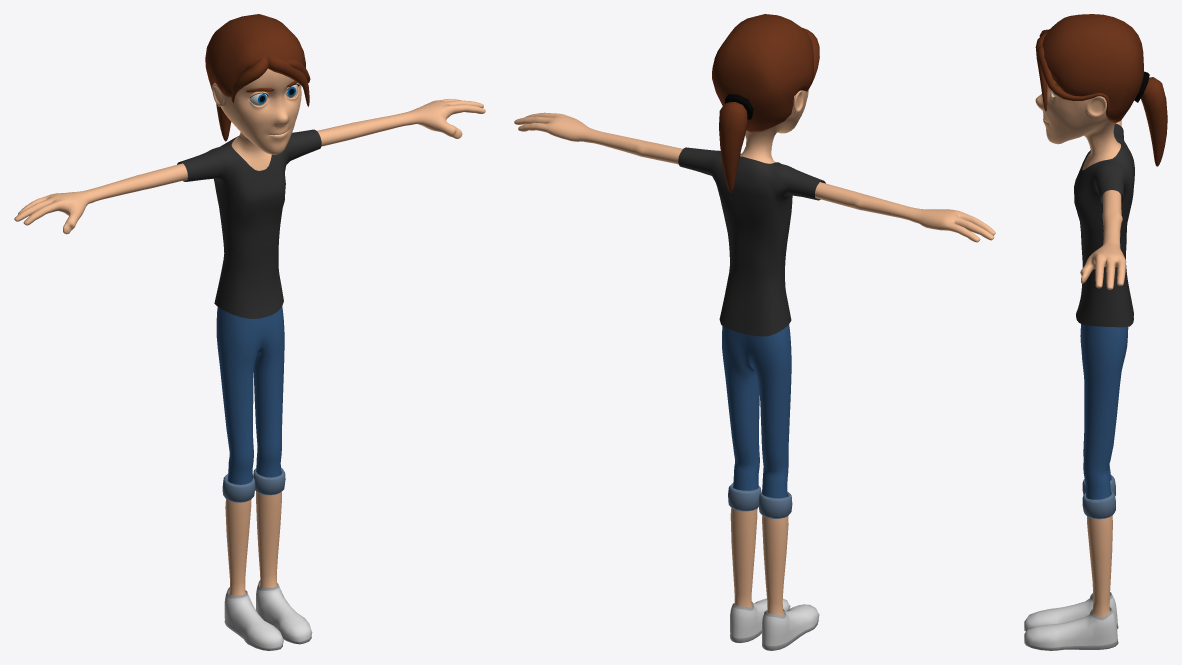
File: Elaine.obj
The picture shows the model from 3 angles, left to right: view 1: azimuth 30°, elevation 25°; view 2: azimuth 150°, elevation 25°; view 3: azimuth 270°, elevation 25°; orthographic projection. The views are drawn at different scales.
Parts seen in each view (by area): view 1: Character_Mesh_Cube.001, Shirt_Cube.008, Pants_Cube.007, Hair_Cube.006, Shoes_Cube.003, Hair2_Cube.005; view 2: Shirt_Cube.008, Character_Mesh_Cube.001, Pants_Cube.007, Hair_Cube.006, Shoes_Cube.003, Hair2_Cube.005; view 3: Character_Mesh_Cube.001, Hair_Cube.006, Pants_Cube.007, Shirt_Cube.008, Shoes_Cube.003, Hair2_Cube.005.
Part boxes in pixels (bbox=[...]): Character_Mesh_Cube.001: bbox=[14, 68, 485, 595]; Shirt_Cube.008: bbox=[177, 129, 321, 318]; Pants_Cube.007: bbox=[216, 307, 285, 502]; Hair_Cube.006: bbox=[205, 14, 305, 97]; Shoes_Cube.003: bbox=[224, 580, 312, 650]; Hair2_Cube.005: bbox=[216, 55, 310, 141]; Shirt_Cube.008: bbox=[678, 147, 825, 336]; Character_Mesh_Cube.001: bbox=[514, 90, 995, 615]; Pants_Cube.007: bbox=[722, 325, 792, 518]; Hair_Cube.006: bbox=[712, 14, 813, 132]; Shoes_Cube.003: bbox=[730, 598, 819, 650]; Hair2_Cube.005: bbox=[719, 27, 819, 192]; Character_Mesh_Cube.001: bbox=[1035, 79, 1126, 616]; Hair_Cube.006: bbox=[1042, 14, 1143, 123]; Pants_Cube.007: bbox=[1080, 324, 1128, 519]; Shirt_Cube.008: bbox=[1074, 123, 1134, 327]; Shoes_Cube.003: bbox=[1024, 592, 1118, 650]; Hair2_Cube.005: bbox=[1035, 29, 1167, 166].
Bounding box in the file's own units: 5.55 × 6.83 × 1.44.
